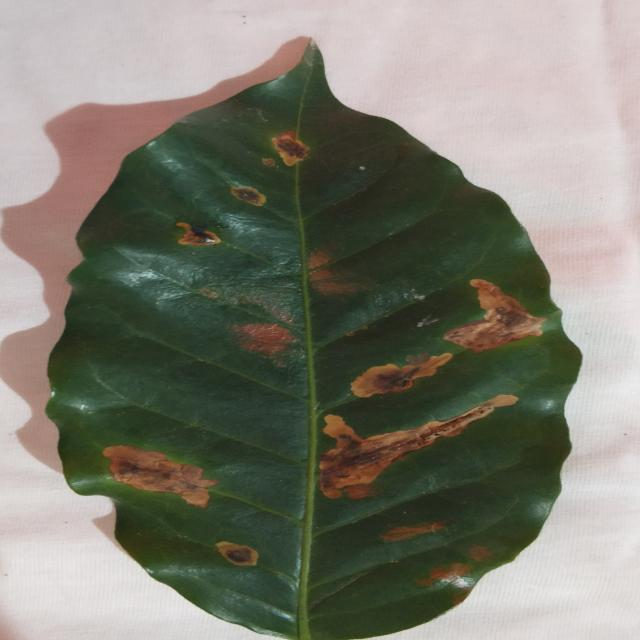Plaga-Minador: (46, 39, 583, 640)
